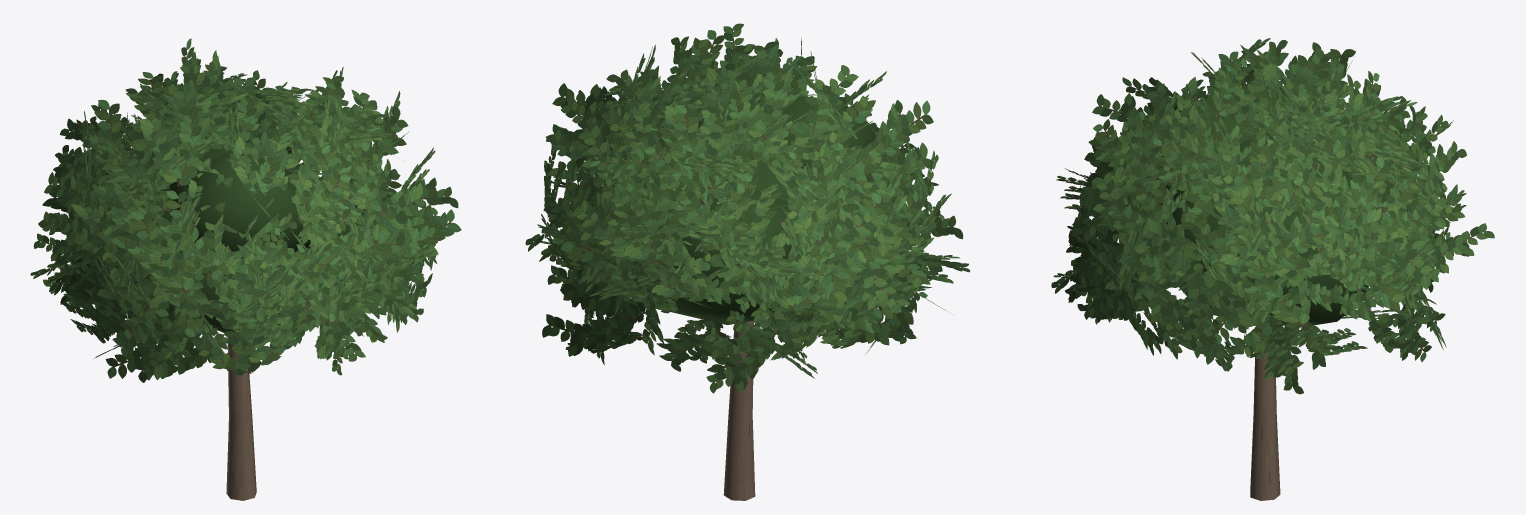
The model's file is QUERCUS_1.glb.
The picture shows the model from 3 angles, left to right: view 1: azimuth 30°, elevation 25°; view 2: azimuth 150°, elevation 25°; view 3: azimuth 270°, elevation 25°; orthographic projection. The views are drawn at different scales.
Parts seen in each view (by area): view 1: Arv_QUERCUS_lod1; view 2: Arv_QUERCUS_lod1; view 3: Arv_QUERCUS_lod1.
Part boxes in pixels (left/top/right/bottom): Arv_QUERCUS_lod1: left=30, top=38, right=461, bottom=500; Arv_QUERCUS_lod1: left=525, top=23, right=969, bottom=500; Arv_QUERCUS_lod1: left=1051, top=38, right=1494, bottom=500.
Bounding box in the file's own units: 10.93 × 11.05 × 10.9.
Materials: 3 (2 with a texture image).
